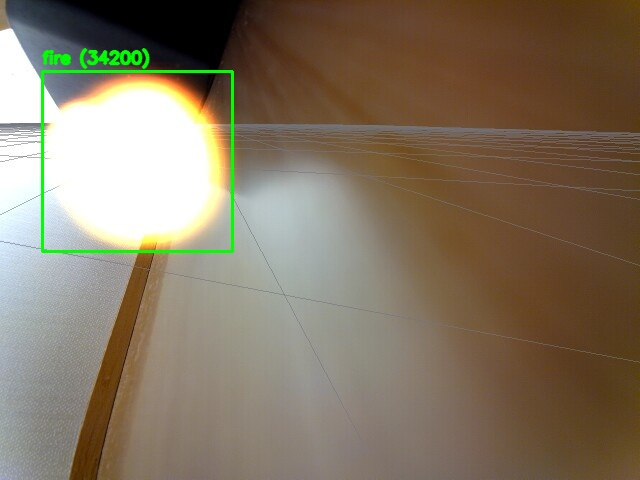fire: (42, 71, 232, 251)
